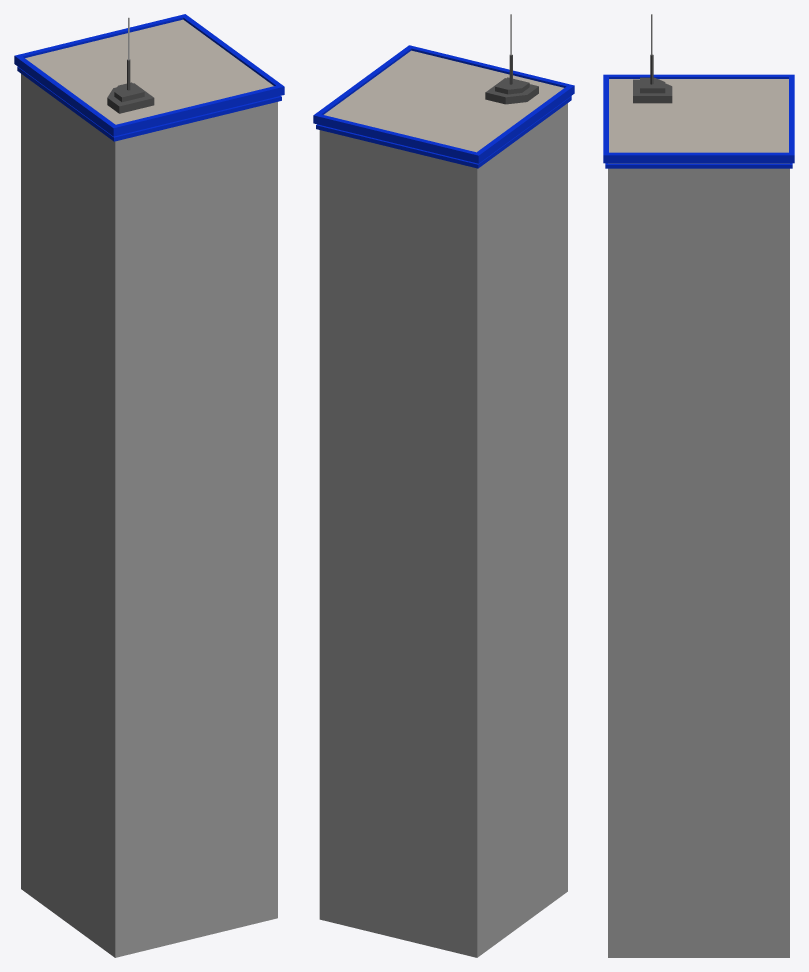
The model's file is building2.fbx.
The picture shows the model from 3 angles, left to right: view 1: azimuth 30°, elevation 25°; view 2: azimuth 150°, elevation 25°; view 3: azimuth 270°, elevation 25°; orthographic projection. The views are drawn at different scales.
Parts seen in each view (by area): view 1: pCube10; view 2: pCube10; view 3: pCube10.
Boxes of the visible parts, left/top/right/bottom form: pCube10: left=14, top=14, right=284, bottom=957; pCube10: left=313, top=14, right=574, bottom=957; pCube10: left=603, top=14, right=794, bottom=957.
Bounding box in the file's own units: 10.5 × 53.67 × 10.54.
